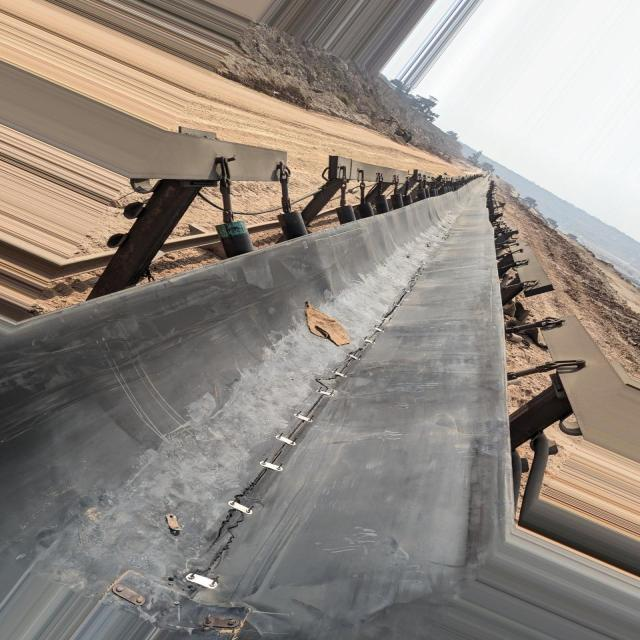Other Objects: (306, 303, 349, 345)
Roller: (337, 190, 434, 224), (217, 219, 255, 260), (277, 210, 311, 241)
patch work: (178, 282, 421, 594), (104, 570, 246, 632)
